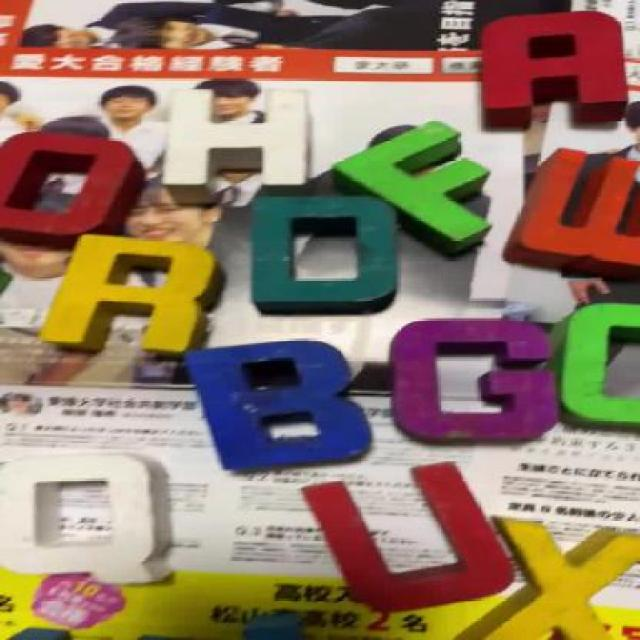A: (474, 14, 632, 118)
B: (204, 347, 365, 471)
D: (240, 194, 403, 314)
F: (344, 128, 491, 245)
G: (398, 316, 558, 444)
H: (165, 87, 321, 199)
O: (0, 124, 142, 253)
Q: (0, 456, 169, 584)
R: (39, 234, 218, 360)
U: (308, 461, 510, 608)
X: (452, 524, 638, 638)
